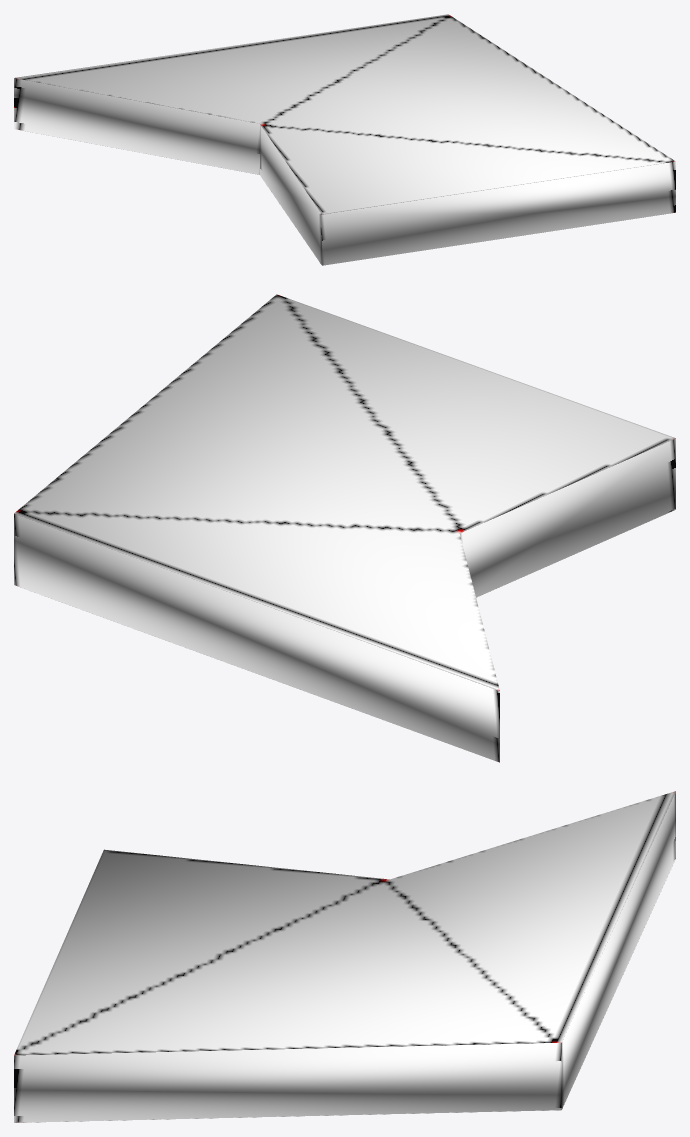
File: fueldepot_2.fbx
The picture shows the model from 3 angles, top to bottom: view 1: azimuth 30°, elevation 25°; view 2: azimuth 150°, elevation 25°; view 3: azimuth 270°, elevation 25°; orthographic projection. The views are drawn at different scales.
Visible parts, largest first — view 1: 2; view 2: 2; view 3: 2.
Part boxes in pixels (box(x1,y1,x2,y2)): 2: box(14, 14, 675, 265); 2: box(14, 294, 675, 762); 2: box(14, 791, 675, 1122).
Size of the model in its own units: 0.4903 by 0.0584 by 0.5189.
Materials: 1 (1 with a texture image).
